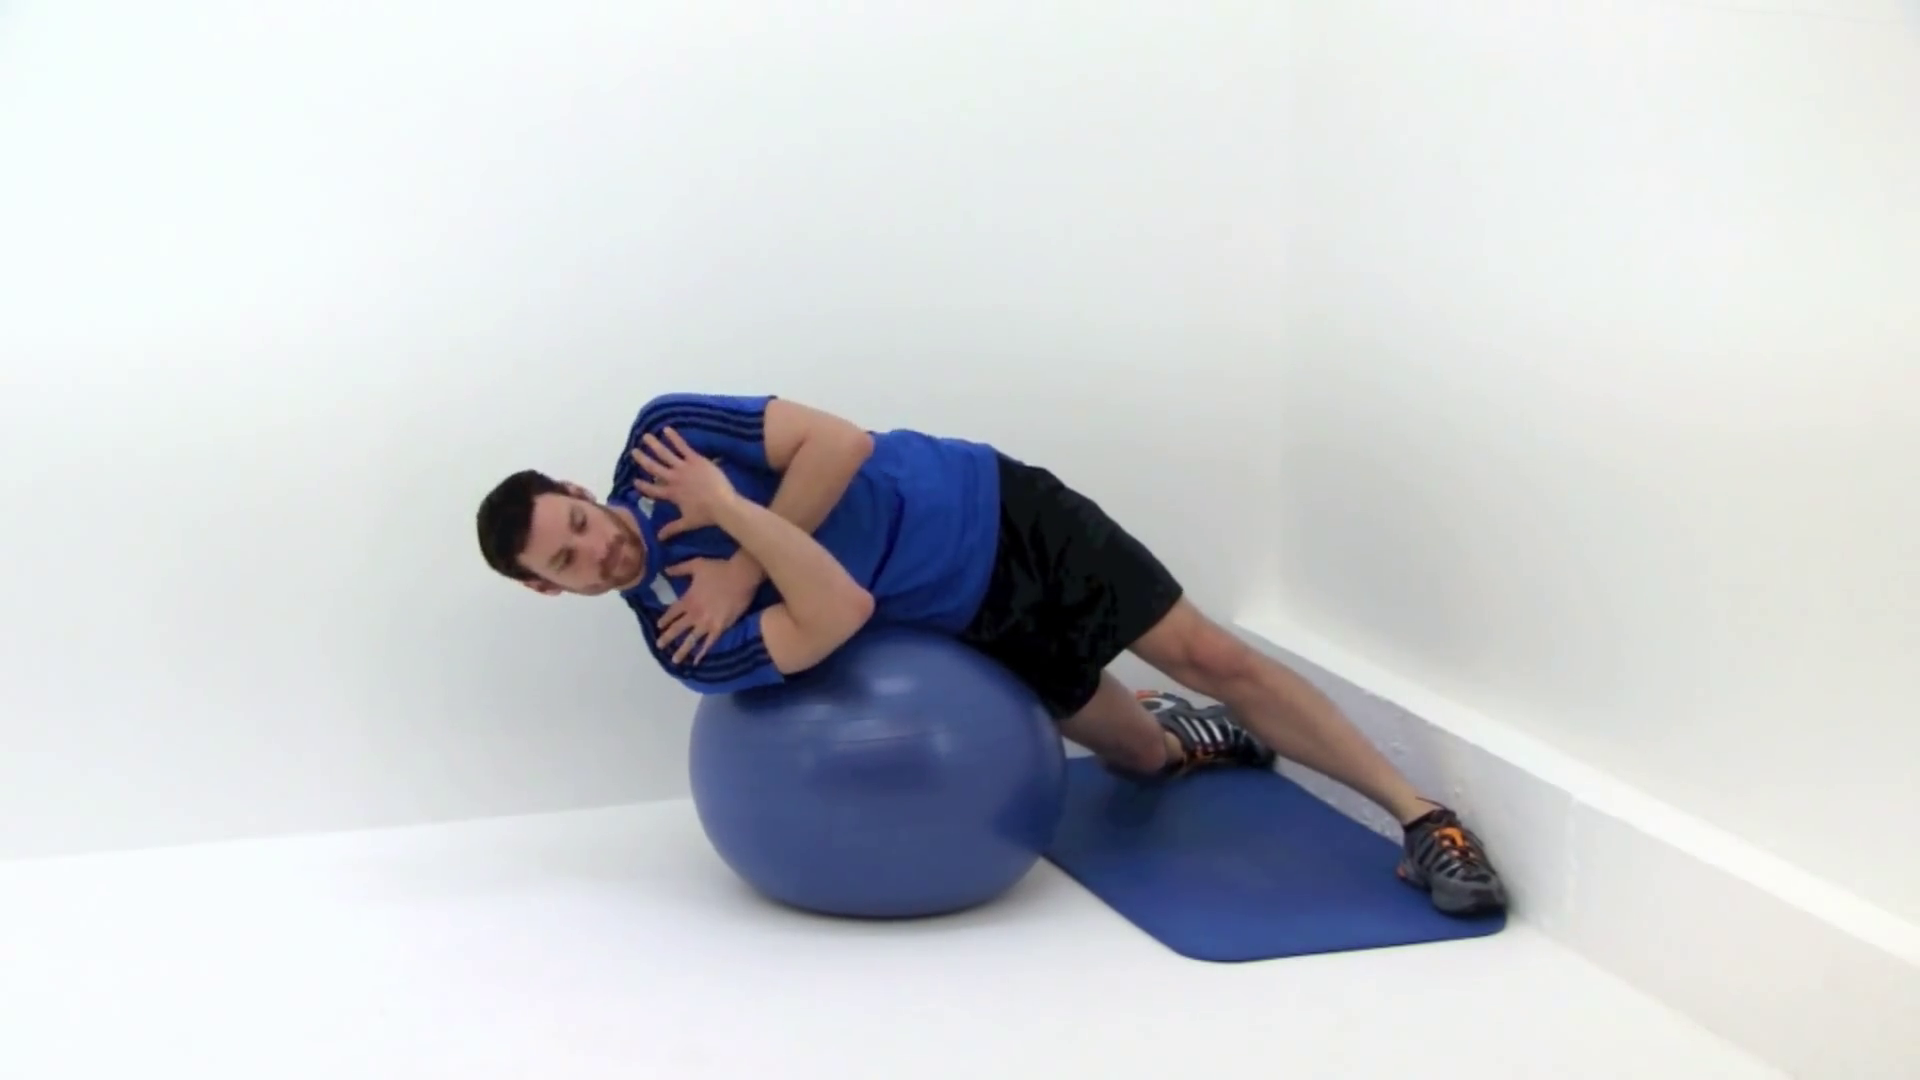yogaball: (673, 622, 1073, 932)
